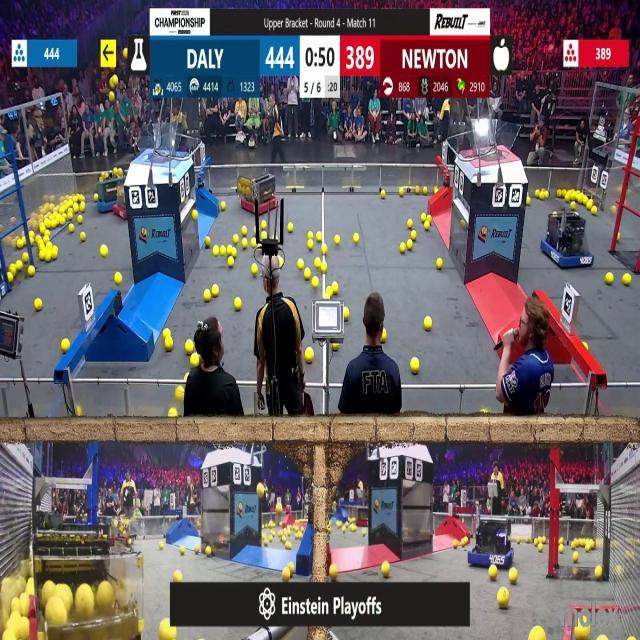ball_airborne: (256, 484, 264, 499), (110, 75, 118, 88), (108, 93, 115, 103), (277, 502, 283, 513), (122, 48, 128, 59)
ball_ground: (497, 590, 509, 610), (574, 627, 587, 640), (530, 628, 544, 640), (412, 357, 420, 373), (382, 562, 390, 577), (490, 566, 498, 580), (306, 348, 314, 362), (185, 341, 193, 355), (329, 564, 337, 578), (189, 354, 198, 366), (511, 568, 518, 583), (424, 317, 432, 330), (595, 566, 603, 579), (204, 289, 212, 302), (164, 339, 172, 352), (62, 340, 70, 353), (282, 568, 290, 581), (176, 387, 184, 400), (235, 296, 242, 310), (380, 332, 388, 344), (35, 299, 42, 312), (174, 570, 182, 581), (115, 273, 122, 285), (99, 243, 106, 255), (212, 285, 219, 297), (331, 283, 338, 295), (324, 287, 331, 299), (605, 274, 612, 285), (624, 275, 631, 286), (305, 269, 312, 280), (44, 250, 51, 261), (344, 309, 350, 321), (436, 260, 442, 272), (51, 248, 57, 260), (315, 258, 322, 268), (227, 256, 233, 267), (29, 267, 35, 278), (8, 273, 14, 284), (572, 552, 578, 563), (212, 247, 219, 256), (170, 410, 177, 419), (259, 220, 266, 229), (313, 278, 319, 288), (252, 266, 258, 276), (353, 234, 359, 244), (321, 244, 327, 254), (316, 233, 322, 243), (220, 246, 226, 256), (68, 222, 74, 232), (226, 246, 232, 256), (297, 260, 303, 270), (399, 244, 405, 254), (15, 262, 21, 272), (23, 253, 29, 263), (421, 214, 427, 224), (288, 562, 294, 572), (205, 238, 211, 248), (278, 256, 284, 266), (39, 251, 45, 261), (260, 232, 266, 242), (79, 203, 85, 213), (572, 567, 578, 577), (331, 343, 338, 351), (461, 537, 468, 545), (165, 328, 171, 337), (412, 232, 418, 241), (424, 221, 430, 230), (251, 239, 257, 248), (232, 247, 238, 256), (308, 232, 314, 241), (206, 546, 212, 555), (76, 214, 82, 223), (76, 409, 82, 418), (557, 188, 563, 197), (537, 189, 543, 198), (73, 204, 79, 213), (309, 240, 314, 250), (408, 241, 413, 251), (191, 210, 196, 220), (37, 633, 44, 640), (242, 226, 248, 234), (592, 207, 598, 215), (452, 539, 458, 547), (286, 541, 292, 549), (571, 540, 577, 548), (243, 240, 248, 249), (220, 202, 225, 211), (234, 235, 239, 244), (336, 236, 341, 245), (570, 201, 575, 210), (68, 211, 73, 220), (565, 194, 570, 203), (398, 188, 404, 195), (322, 264, 326, 274), (180, 545, 185, 553), (381, 190, 386, 198), (194, 544, 199, 552), (559, 544, 564, 552), (423, 186, 428, 194), (527, 199, 532, 207), (362, 528, 367, 536), (584, 618, 589, 626), (80, 233, 84, 242), (288, 222, 292, 231), (161, 540, 165, 549), (409, 219, 413, 228), (538, 543, 543, 550), (432, 186, 437, 193), (416, 185, 420, 193), (129, 538, 133, 546), (338, 522, 343, 528), (618, 235, 622, 242), (352, 525, 356, 532), (600, 636, 606, 640), (517, 536, 521, 542)
goal: (464, 122, 521, 160), (133, 131, 190, 159)
robot_blue: (542, 212, 592, 270), (471, 517, 514, 568), (96, 168, 124, 213)
robot_red: (238, 172, 277, 215), (110, 516, 138, 548)
